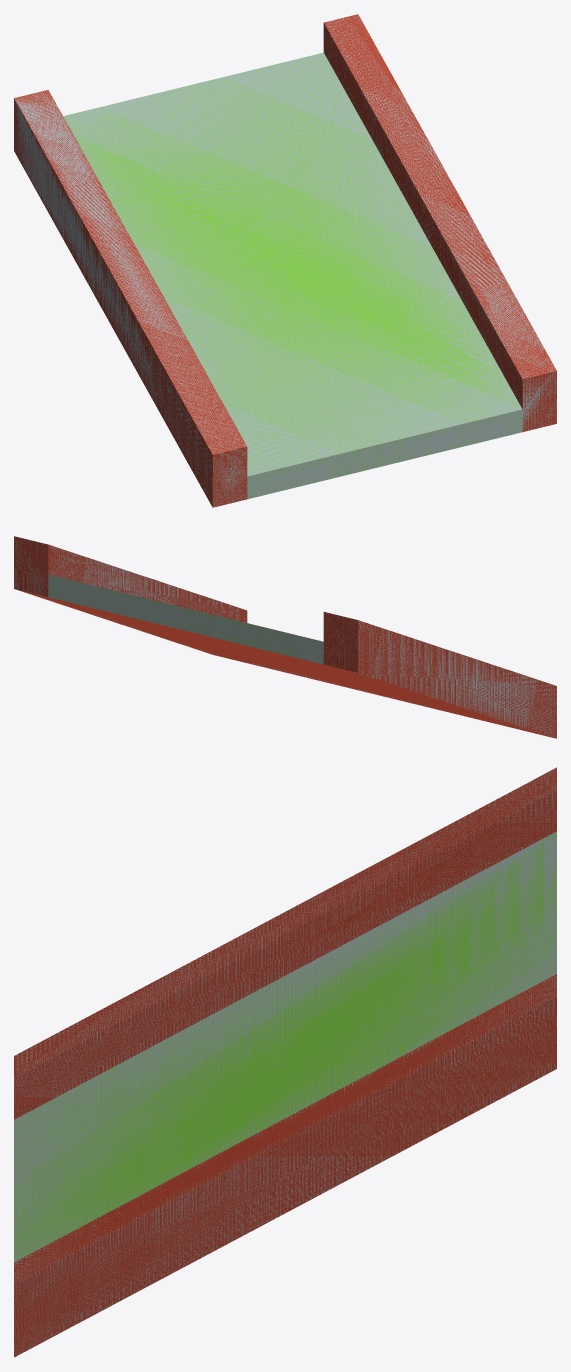
File: Ramp_4_01.obj
3 renders of one model, top to bottom at view 1: azimuth 30°, elevation 25°; view 2: azimuth 150°, elevation 25°; view 3: azimuth 270°, elevation 25°, orthographic. The views are drawn at different scales.
Visible parts, largest first — view 1: Mesh1 Ramp_4 Model; view 2: Mesh1 Ramp_4 Model; view 3: Mesh1 Ramp_4 Model.
Boxes of the visible parts, bbox=[...] form: Mesh1 Ramp_4 Model: bbox=[14, 14, 556, 507]; Mesh1 Ramp_4 Model: bbox=[14, 536, 556, 738]; Mesh1 Ramp_4 Model: bbox=[14, 767, 556, 1357].
Size of the model in its own units: 3 by 2.2 by 3.
